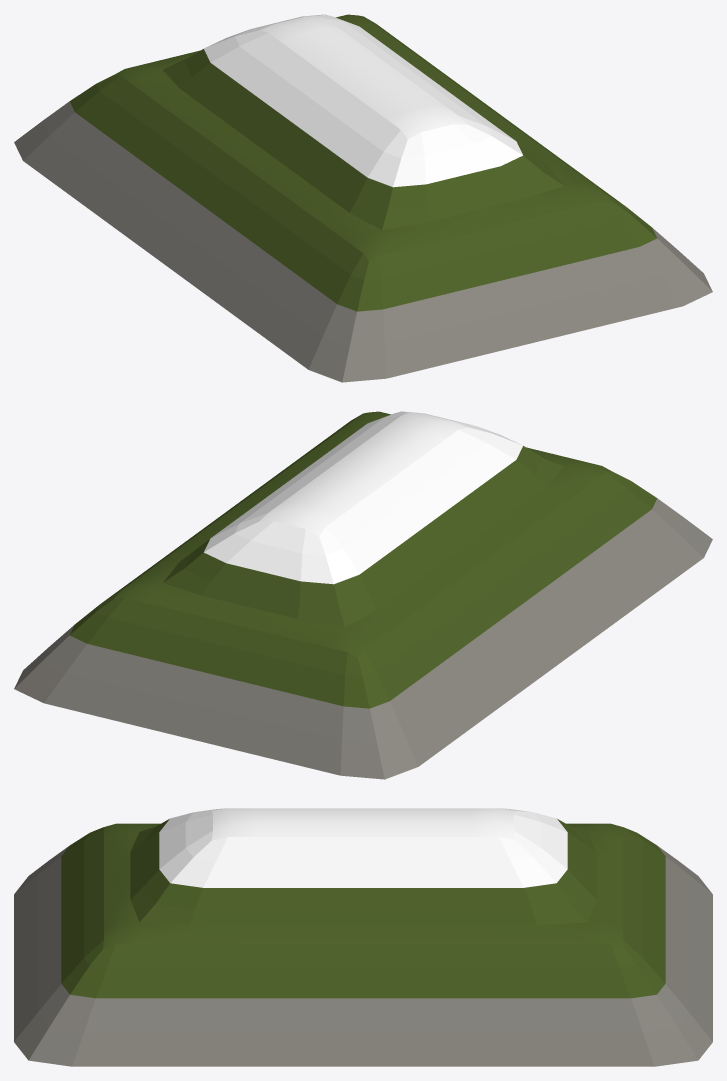
Rendered from Island12.FBX.
The picture shows the model from 3 angles, top to bottom: view 1: azimuth 30°, elevation 25°; view 2: azimuth 150°, elevation 25°; view 3: azimuth 270°, elevation 25°; orthographic projection. The views are drawn at different scales.
Visible parts, largest first — view 1: Plane001; view 2: Plane001; view 3: Plane001.
Part boxes in pixels (x1,y1,x2,y2): Plane001: (14, 14, 712, 382); Plane001: (14, 411, 712, 779); Plane001: (14, 808, 712, 1066).
Bounding box in the file's own units: 40 × 14.2 × 60.
